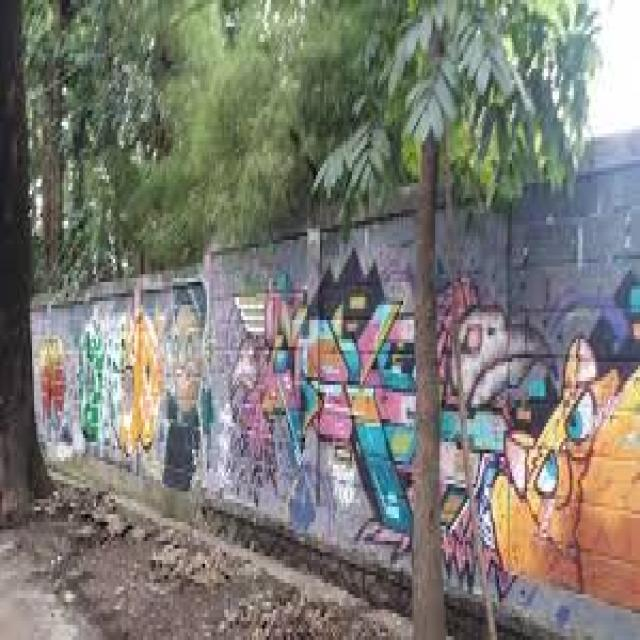-: (30, 248, 640, 594)
